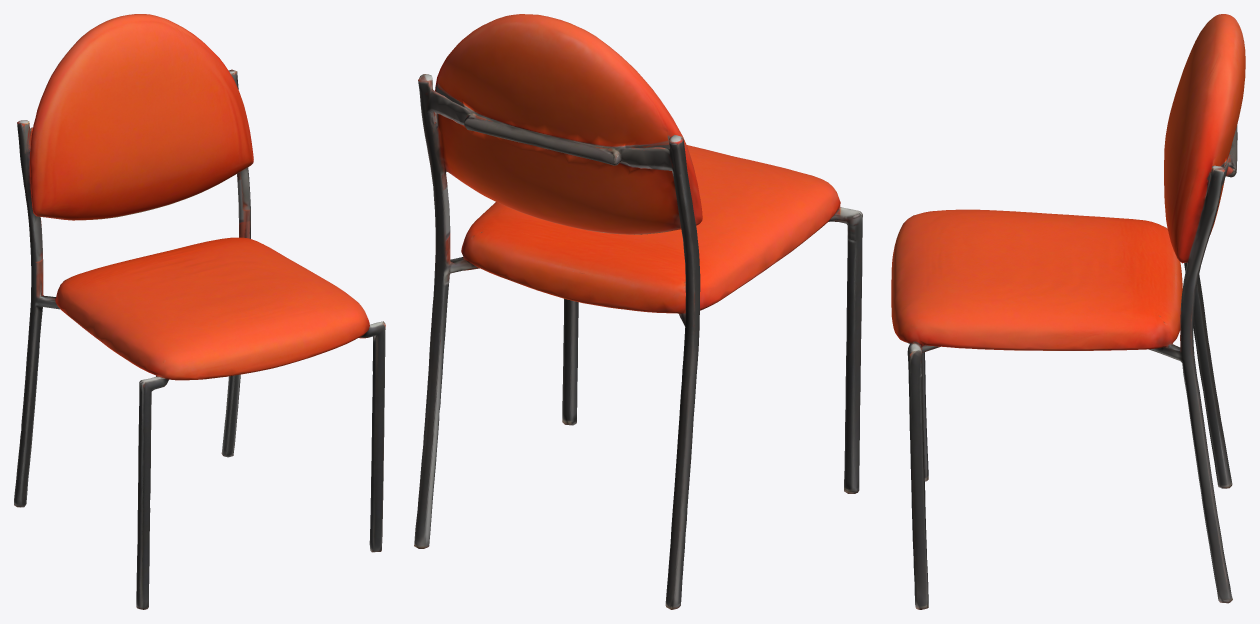
Rendered from 1757851750190-339346779-E-805-Chair.glb.
3 views of the same model, side by side, from view 1: azimuth 30°, elevation 25°; view 2: azimuth 150°, elevation 25°; view 3: azimuth 270°, elevation 25° (orthographic). The views are drawn at different scales.
Size of the model in its own units: 1.11 by 2 by 1.24.
Materials: 1 (1 with a texture image).
